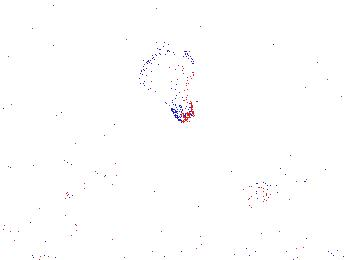flame jellyfish: (138, 44, 197, 123), (246, 160, 318, 204), (59, 151, 119, 202)
